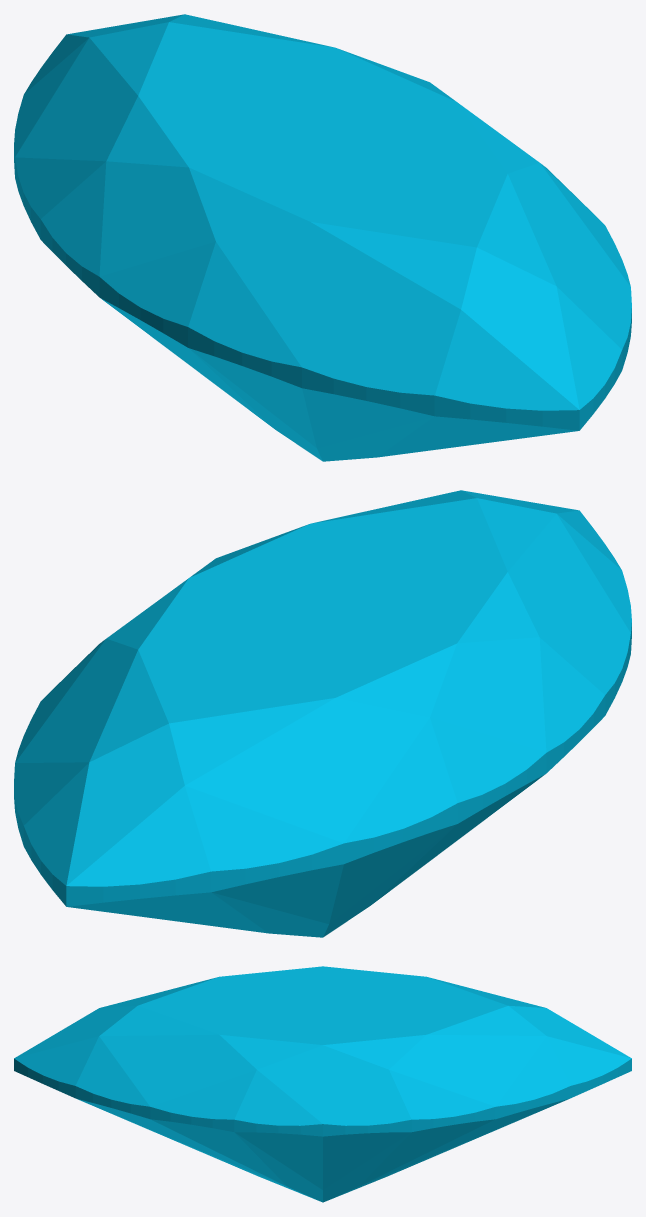
The model's file is Head_Single Halo_Marquise_2.0ct_Diamond.glb.
3 views of the same model, one above another, from view 1: azimuth 30°, elevation 25°; view 2: azimuth 150°, elevation 25°; view 3: azimuth 270°, elevation 25° (orthographic). The views are drawn at different scales.
Size of the model in its own units: 0.00651 by 0.00455 by 0.013.
